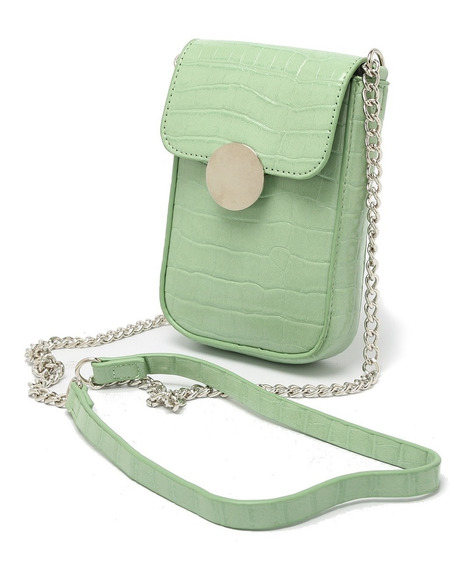cartera: (156, 36, 382, 368)
